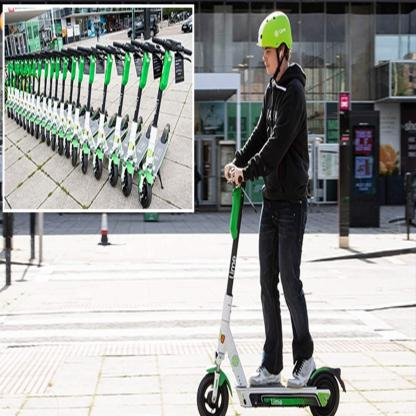scooter: (197, 166, 346, 416)
with helmet: (256, 11, 293, 76)
